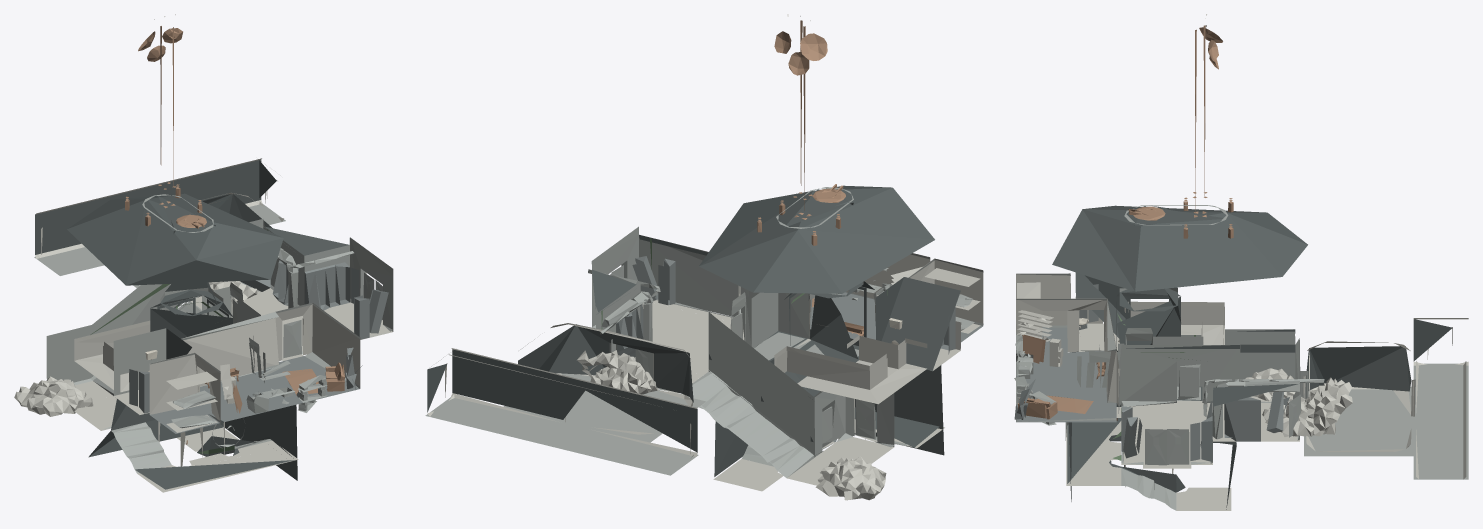
File: entrance_bunker_c.glb
The picture shows the model from 3 angles, left to right: view 1: azimuth 30°, elevation 25°; view 2: azimuth 150°, elevation 25°; view 3: azimuth 270°, elevation 25°; orthographic projection. The views are drawn at different scales.
Parts seen in each view (by area): view 1: stairwell_top_country_a_LOD0, ground_cloth_a_LOD0, stairwell_top_country_b_LOD0; view 2: stairwell_top_country_a_LOD0, ground_cloth_a_LOD0, stairwell_top_country_b_LOD0; view 3: stairwell_top_country_a_LOD0, ground_cloth_a_LOD0, stairwell_top_country_b_LOD0.
Part boxes in pixels (x1,y1,x2,y2): stairwell_top_country_a_LOD0: [34, 26, 393, 489]; ground_cloth_a_LOD0: [14, 158, 392, 492]; stairwell_top_country_b_LOD0: [129, 260, 388, 433]; stairwell_top_country_a_LOD0: [425, 20, 983, 477]; ground_cloth_a_LOD0: [427, 253, 983, 500]; stairwell_top_country_b_LOD0: [616, 256, 982, 449]; stairwell_top_country_a_LOD0: [1014, 25, 1468, 510]; ground_cloth_a_LOD0: [1016, 273, 1468, 510]; stairwell_top_country_b_LOD0: [1014, 284, 1289, 461].
Bounding box in the file's own units: 21.92 × 27.85 × 24.92.
